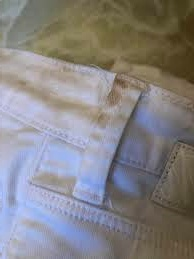earth: (45, 95, 76, 113), (107, 82, 126, 108), (85, 109, 107, 128), (8, 79, 28, 93)
